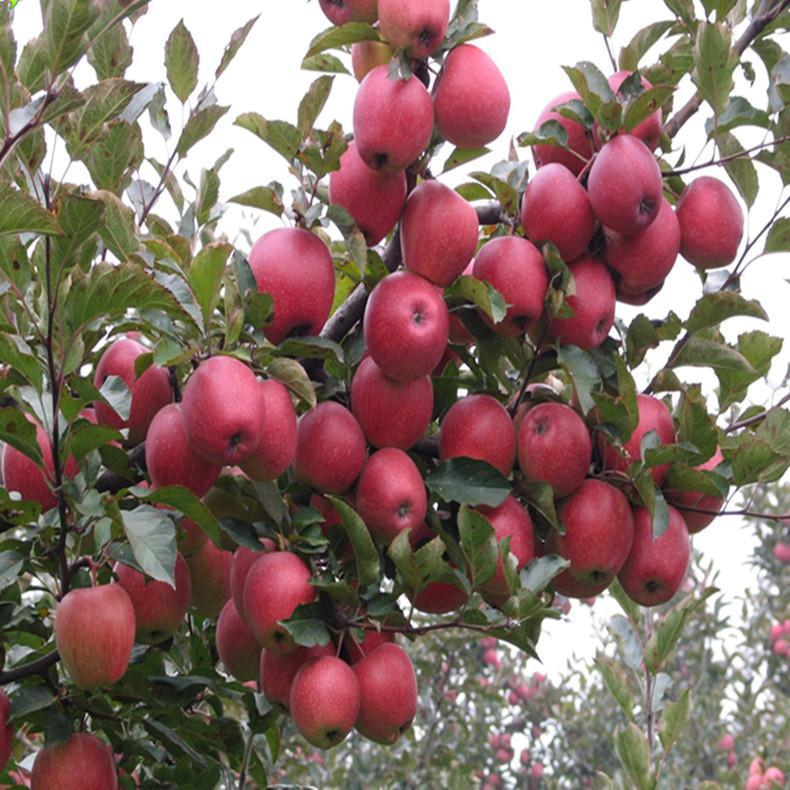apple: (361, 267, 449, 381), (247, 225, 334, 339), (550, 479, 632, 597), (52, 579, 136, 687), (183, 355, 266, 463), (327, 140, 409, 249), (428, 43, 510, 149), (354, 67, 438, 168), (460, 494, 537, 600), (400, 180, 479, 283), (616, 504, 690, 608), (106, 552, 192, 641), (353, 449, 431, 547), (472, 235, 549, 333), (354, 356, 436, 448), (143, 400, 222, 495), (513, 401, 591, 497), (92, 335, 171, 429), (284, 653, 360, 749), (587, 137, 660, 236), (597, 399, 673, 492), (439, 395, 517, 481), (291, 401, 367, 489), (242, 551, 315, 641), (524, 168, 592, 263), (675, 175, 745, 265), (352, 643, 415, 743), (4, 430, 81, 511), (609, 208, 679, 296), (547, 263, 615, 348), (242, 379, 298, 479), (532, 93, 602, 171), (25, 732, 117, 790), (598, 70, 663, 142), (376, 1, 451, 62), (216, 599, 257, 682), (191, 540, 233, 614), (258, 643, 300, 705)
